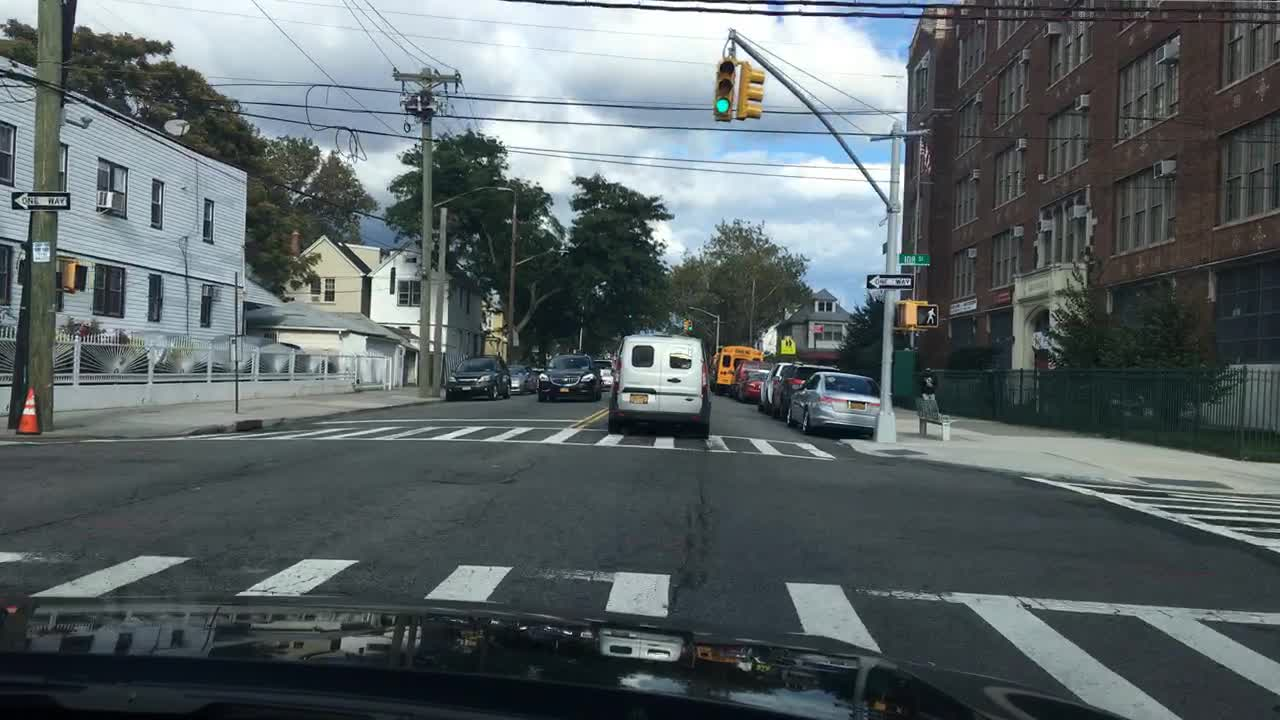car: (607, 330, 713, 433), (789, 369, 882, 437), (774, 362, 836, 420), (443, 354, 512, 401), (538, 354, 603, 401), (715, 342, 764, 393), (757, 362, 799, 410), (732, 357, 772, 401), (505, 364, 535, 391), (593, 357, 617, 386)
person: (921, 366, 936, 398)
traffic light: (735, 60, 764, 119), (712, 55, 735, 124), (60, 254, 77, 295), (899, 298, 917, 332), (916, 303, 937, 325)
traffic sign: (8, 186, 72, 207), (862, 271, 911, 286), (30, 239, 53, 263), (226, 334, 244, 364), (896, 254, 934, 262)
